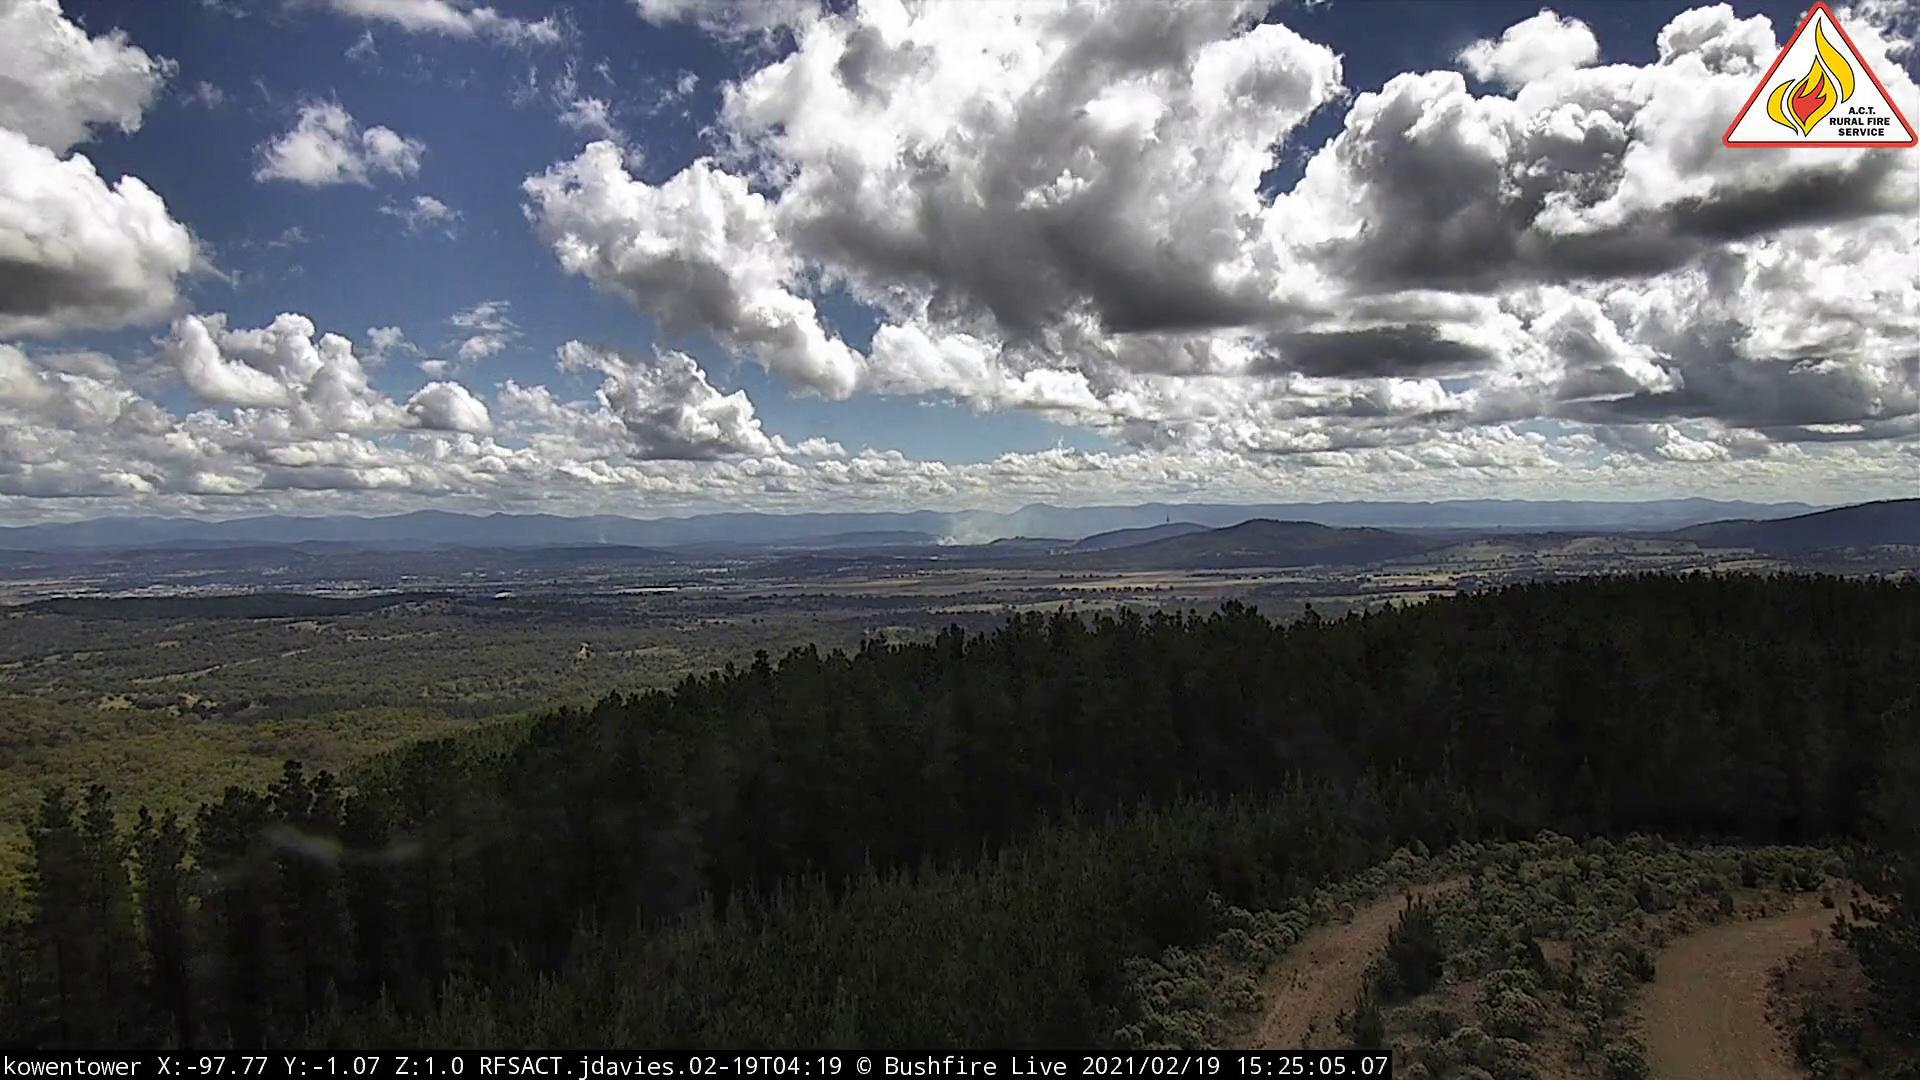Smoke: (928, 498, 1055, 551), (595, 526, 616, 554)
